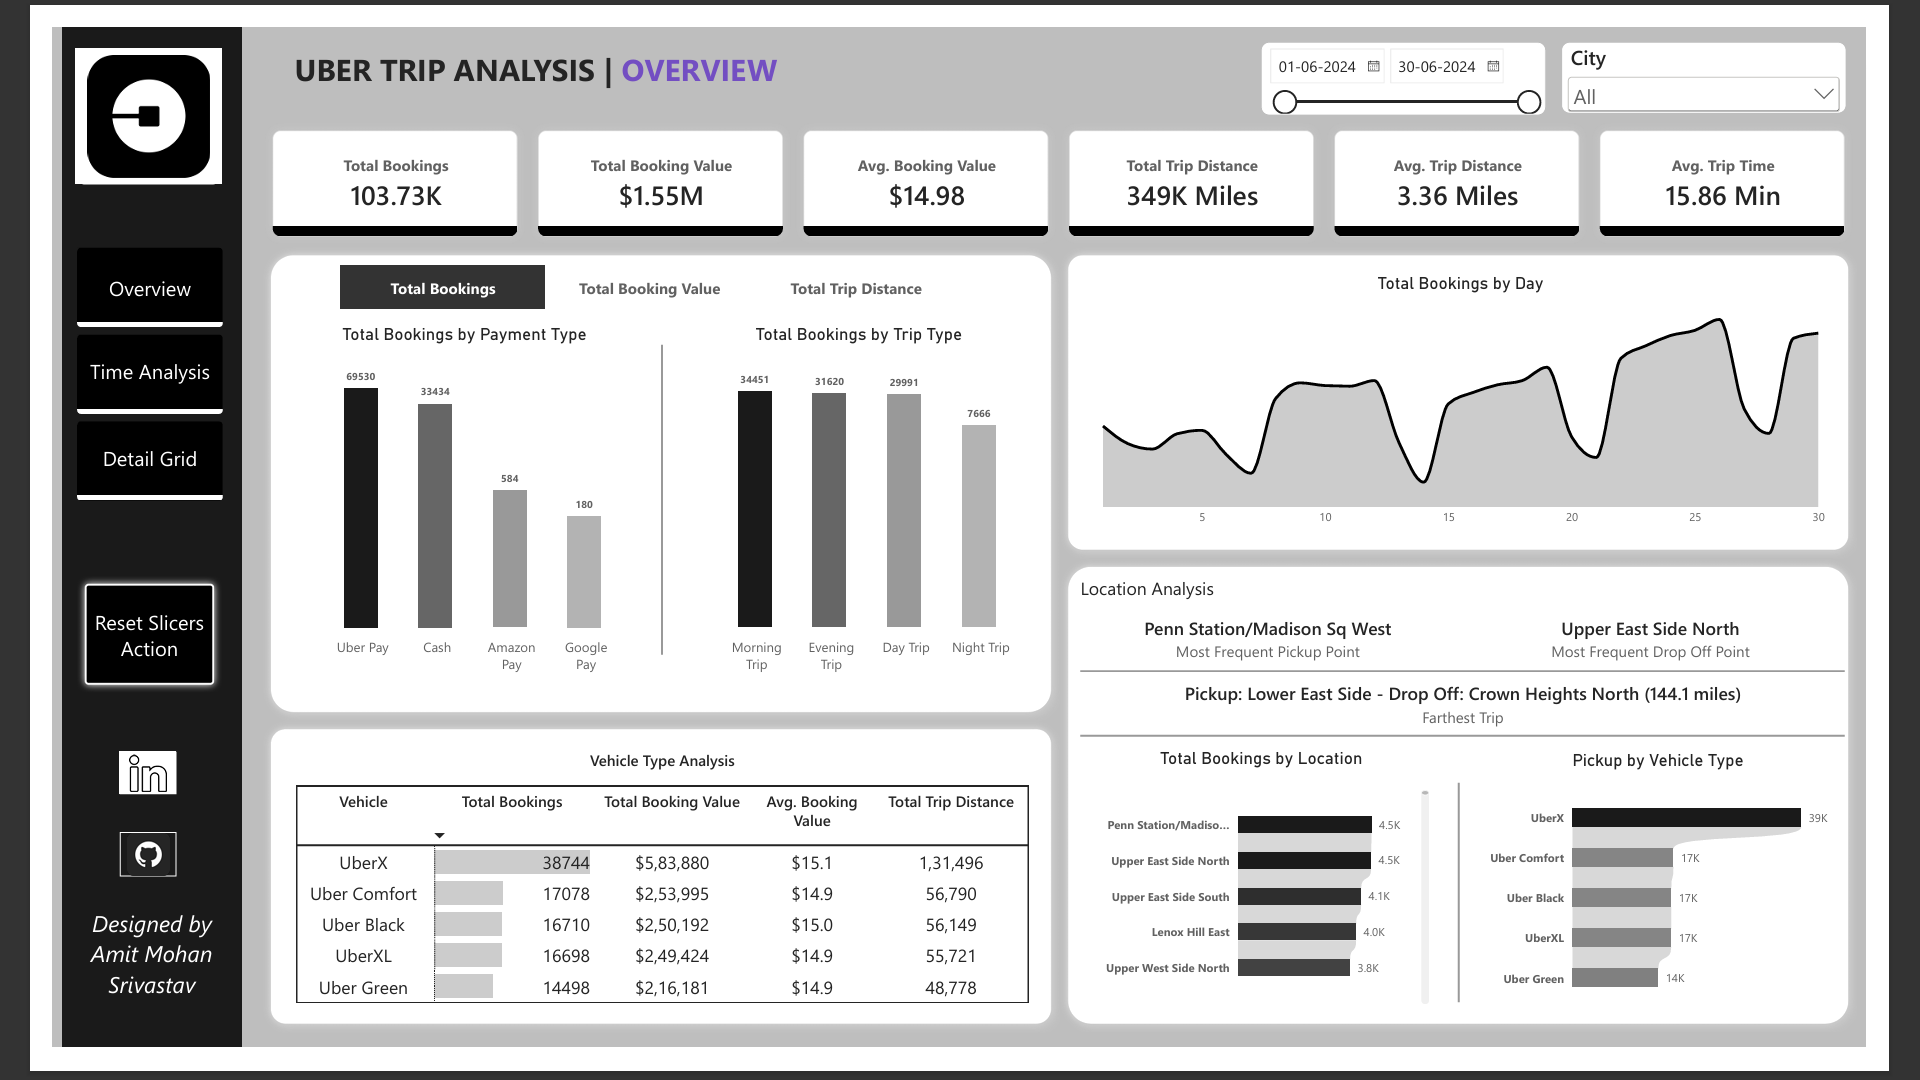

This screenshot's page, from the dashboard's own definition file:
{"tool":"powerbi","page":{"name":"Overview","canvas":[1920,1080],"ordinal":0},"visuals":[{"type":"shape","box":[10,0,190,1080],"z":0},{"type":"image","box":[70.6,767.3,59.7,45.2],"z":0,"group":"g1"},{"type":"textbox","box":[256,22,544,64],"z":1000},{"type":"image","box":[70.6,852.4,59.7,47.1],"z":1000,"group":"g1"},{"type":"shape","box":[222,232,844,502],"z":2000},{"type":"shape","box":[222,734,844,330],"z":3000},{"type":"shape","box":[1066,562,844,502],"z":4000},{"type":"shape","box":[1066,232,844,330],"z":5000},{"type":"cardVisual","fields":{"Data":["My_Measures.Total Bookings","My_Measures.Total Booking Value","My_Measures.Avg. Booking Value","My_Measures.Total Trip Distance Display","My_Measures.Avg. Trip Distance Display","My_Measures.Avg. Trip time Display"]},"box":[222,98,1688,134],"z":6000},{"type":"slicer","fields":{"Values":["Parameter_2.Parameter_2"]},"box":[284,250,694,50],"z":7000},{"type":"shape","box":[632,336,26,328],"z":8000},{"type":"columnChart","fields":{"Y":["My_Measures.Total Bookings"],"Category":["Trip Details.payment_type"]},"box":[240,300,392,402],"z":9000},{"type":"columnChart","fields":{"Y":["My_Measures.Total Bookings"],"Category":["Trip Details.Trip Type"]},"box":[656.9,300.4,392.7,401.7],"z":10000},{"type":"tableEx","title":"Vehicle Type Analysis","fields":{"Values":["Trip Details.vehicle","My_Measures.Total Bookings","My_Measures.Total Booking Value","My_Measures.Avg. Booking Value","My_Measures.Total Trip Distance"]},"box":[240.7,751,808.9,313.1],"z":11000},{"type":"areaChart","title":"Total Bookings by Day","fields":{"Category":["Calendar Table.day"],"Y":["My_Measures.Total Bookings"]},"box":[1085.8,246.1,808.9,300.4],"z":12000},{"type":"barChart","title":"Total Bookings by Location","fields":{"Category":["Location Table.location"],"Y":["My_Measures.Total Bookings"]},"box":[1085.8,749.2,387.3,300.4],"z":13000},{"type":"barChart","title":"Pickup by Vehicle Type","fields":{"Category":["Trip Details.vehicle"],"Y":["CountNonNull(Trip Details.pu_location_id)"]},"box":[1503.8,751,390.9,300.4],"z":14000},{"type":"shape","box":[1473.1,799.9,30.8,231.6],"z":15000},{"type":"shape","box":[1087.6,727.5,808.9,45.2],"z":16000},{"type":"shape","box":[1087.6,658.7,808.9,45.2],"z":17000},{"type":"textbox","box":[1087.6,580.9,164.7,32.6],"z":18000},{"type":"cardVisual","fields":{"Data":["My_Measures.Most Frequent Pickup Point","My_Measures.Most Frequent Drop Off"]},"box":[1084,613.5,810.7,68.8],"z":19000},{"type":"cardVisual","fields":{"Data":["My_Measures.Farthest Trip"]},"box":[1087.6,682.2,810.7,68.8],"z":20000},{"type":"slicer","fields":{"Values":["Location Table.city"]},"box":[1598,16,300,74],"z":21000},{"type":"slicer","fields":{"Values":["Trip Details.pick_up_date"]},"box":[1280.4,16,299.6,75.9],"z":22000},{"type":"image","box":[24.2,22.4,154.6,143.4],"z":23000},{"type":"pageNavigator","box":[26.1,232.8,154.6,268.2],"z":24000},{"type":"actionButton","box":[26.1,581.1,152.7,122.9],"z":25000},{"type":"textbox","box":[27.1,932,155.6,117.6],"z":26000},{"type":"group","id":"g1","title":"Group 1","box":[70.6,767.3,59.7,132.1],"z":27000}]}

Visuals, with their boxes in screenshot pixels (x1, y1, x2, y2), scaled from the page's 1920x1080 canvas onto the 1920x1080 screenshot:
shape: (10,0,200,1079)
image: (71,767,130,812)
textbox: (256,22,800,86)
image: (71,852,130,900)
shape: (222,232,1066,734)
shape: (222,734,1066,1064)
shape: (1066,562,1910,1064)
shape: (1066,232,1910,562)
cardVisual - My_Measures.Total Bookings x My_Measures.Total Booking Value: (222,98,1910,232)
slicer - Parameter_2.Parameter_2: (284,250,978,300)
shape: (632,336,658,664)
columnChart - My_Measures.Total Bookings x Trip Details.payment_type: (240,300,632,702)
columnChart - My_Measures.Total Bookings x Trip Details.Trip Type: (657,300,1050,702)
"Vehicle Type Analysis" tableEx: (241,751,1050,1064)
"Total Bookings by Day" areaChart: (1086,246,1895,546)
"Total Bookings by Location" barChart: (1086,749,1473,1050)
"Pickup by Vehicle Type" barChart: (1504,751,1895,1051)
shape: (1473,800,1504,1032)
shape: (1088,728,1896,773)
shape: (1088,659,1896,704)
textbox: (1088,581,1252,614)
cardVisual - My_Measures.Most Frequent Pickup Point x My_Measures.Most Frequent Drop Off: (1084,614,1895,682)
cardVisual - My_Measures.Farthest Trip: (1088,682,1898,751)
slicer - Location Table.city: (1598,16,1898,90)
slicer - Trip Details.pick_up_date: (1280,16,1580,92)
image: (24,22,179,166)
pageNavigator: (26,233,181,501)
actionButton: (26,581,179,704)
textbox: (27,932,183,1050)
"Group 1" group: (71,767,130,899)
